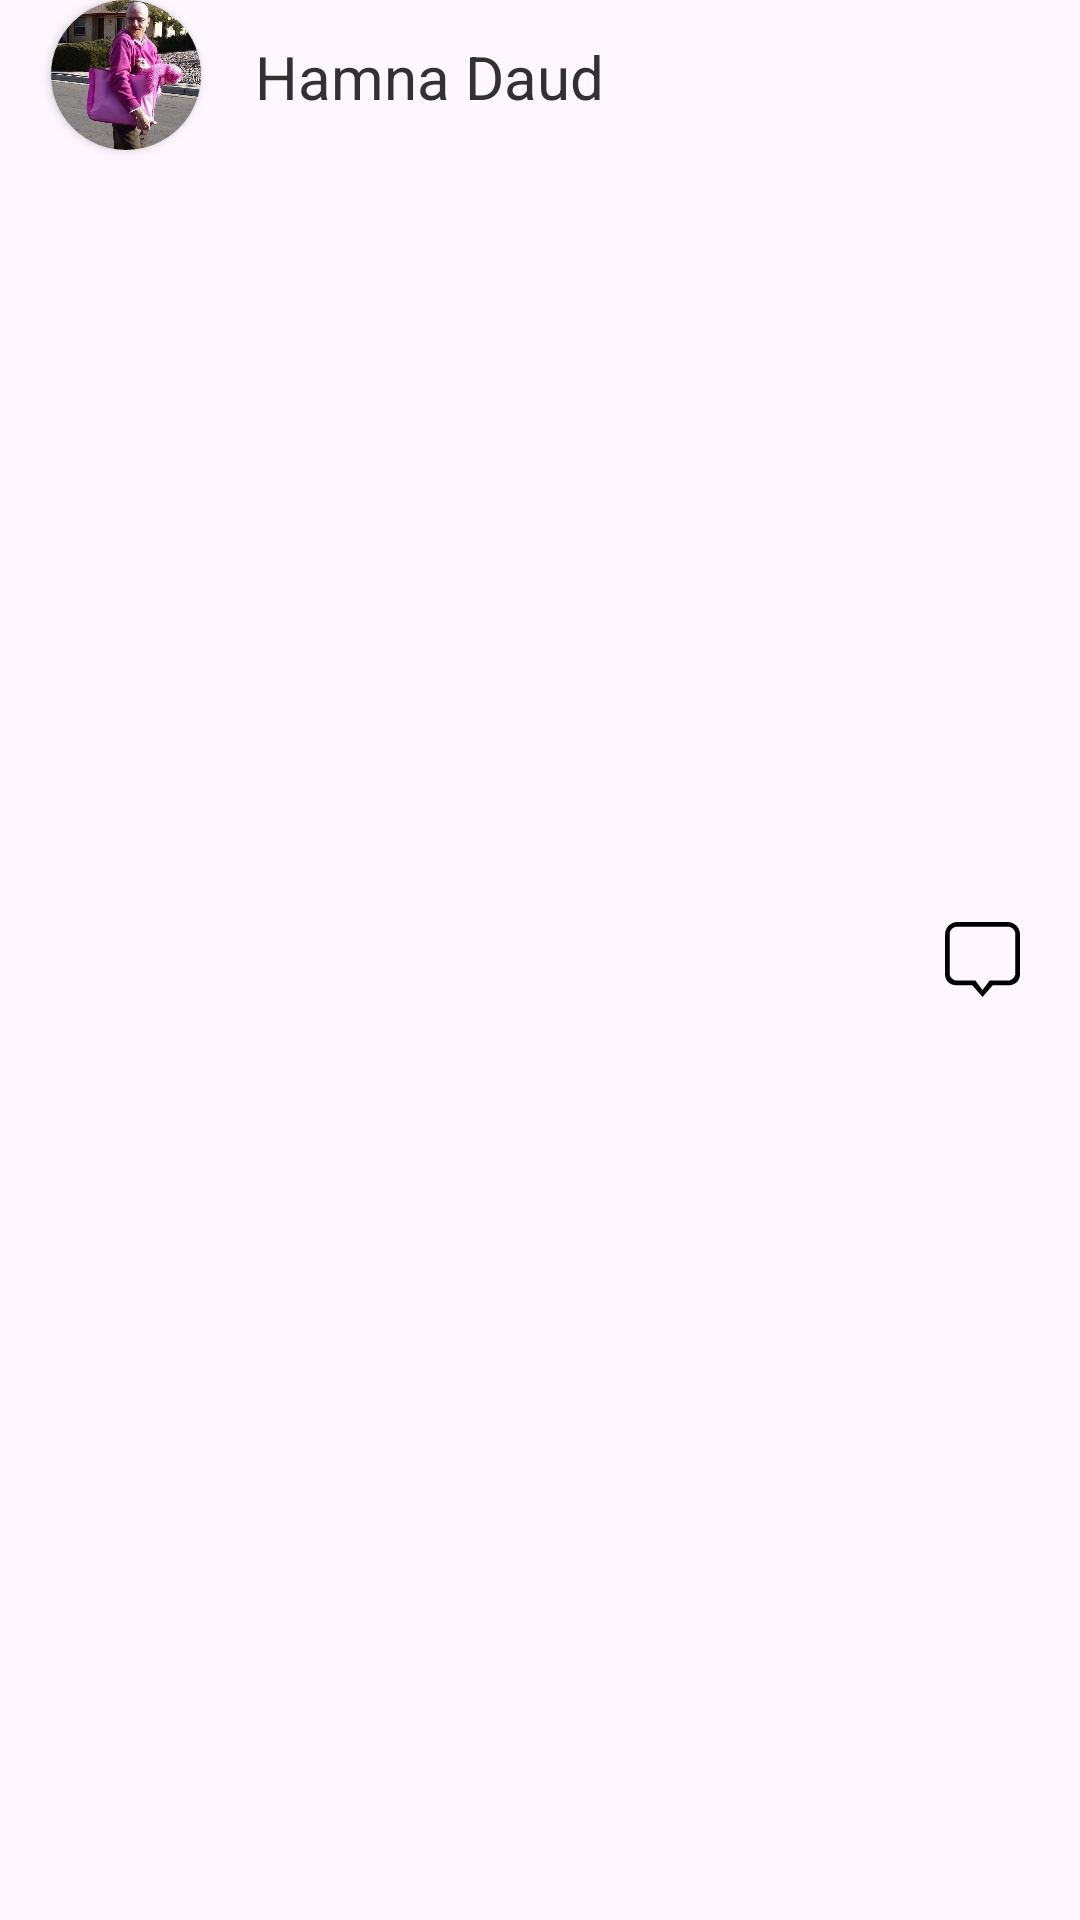

Icon bounding boxes for this 1080w x 1920h phone screenshot, format (x1, y1, x2, y2):
comment: (945, 922, 1020, 997)
ham pfp: (51, 0, 201, 150)
